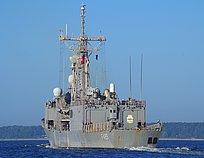MIL_Ship: (37, 72, 166, 152)
